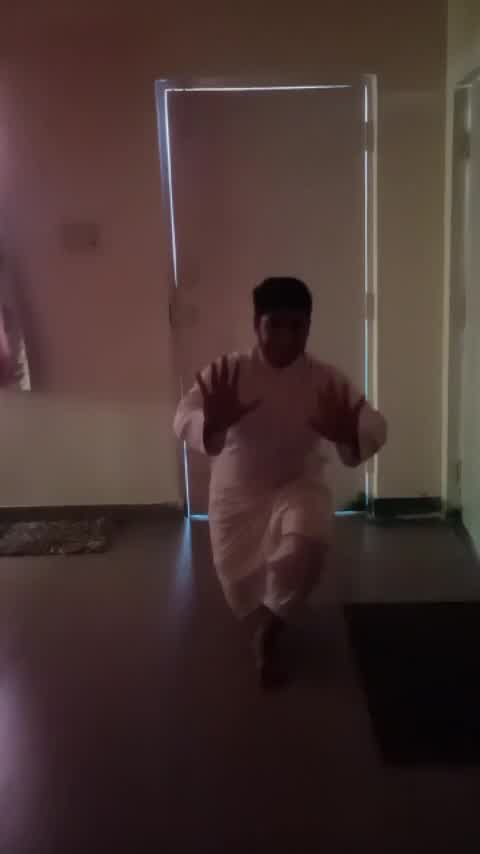duck: (184, 271, 395, 708)
